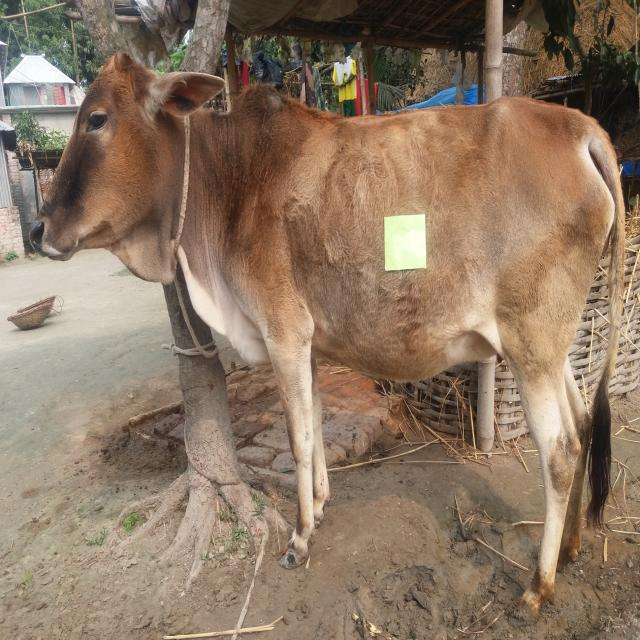badan_sapi: (243, 96, 609, 384)
sapi: (27, 44, 624, 626)
